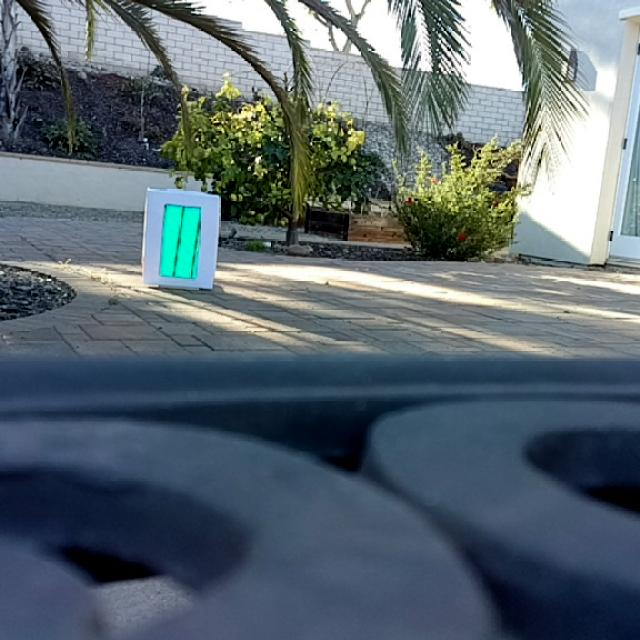led: (159, 202, 202, 280)
